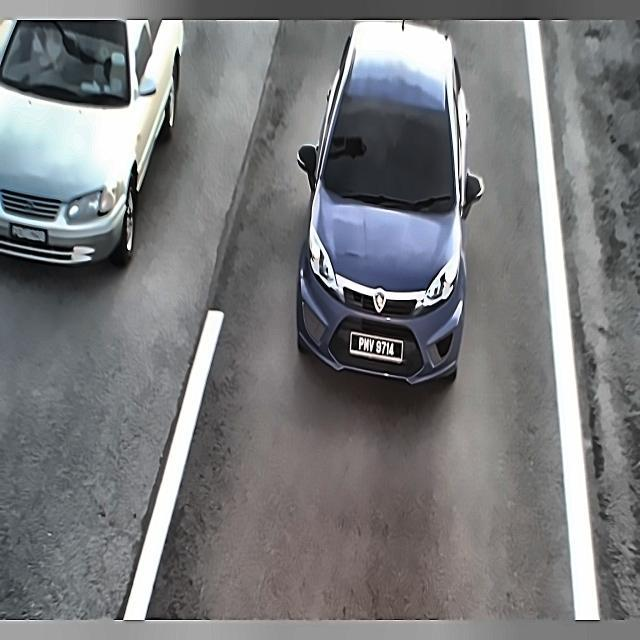car: (347, 329, 405, 372), (4, 207, 52, 256)
